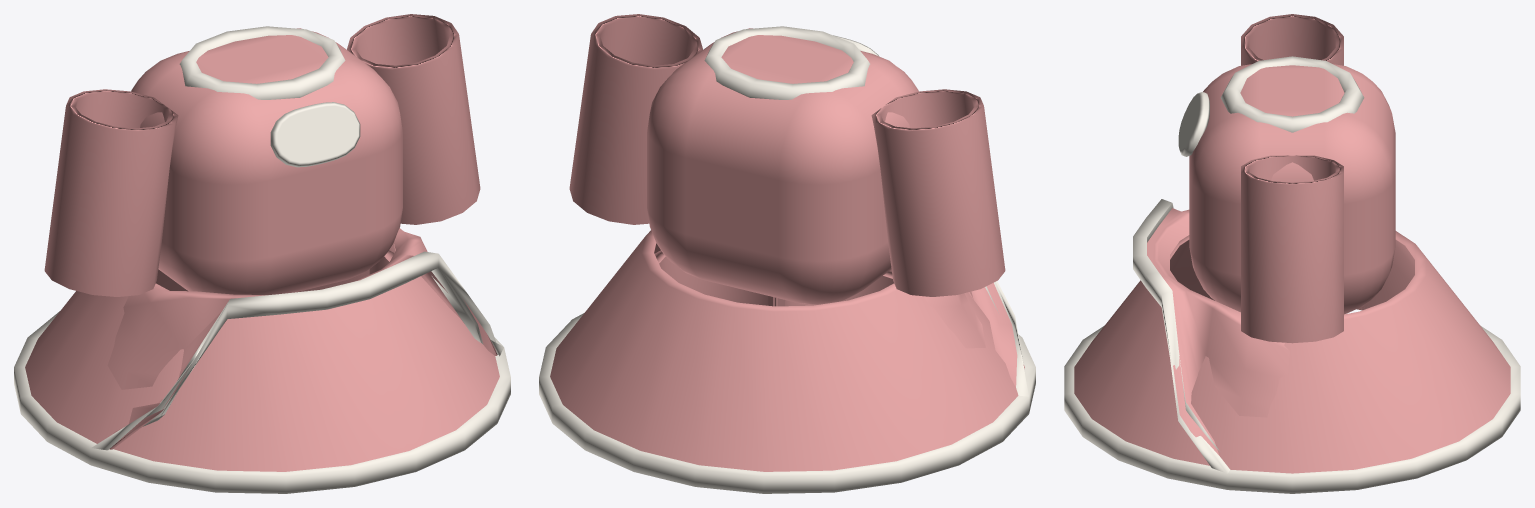
The model's file is bolero_coat.glb.
The picture shows the model from 3 angles, left to right: view 1: azimuth 30°, elevation 25°; view 2: azimuth 150°, elevation 25°; view 3: azimuth 270°, elevation 25°; orthographic projection. The views are drawn at different scales.
Parts seen in each view (by area): view 1: bolero_coat_Body, bolero_coat_Body_sit, bolero_coat_ArmL, bolero_coat_ArmR; view 2: bolero_coat_Body, bolero_coat_ArmL, bolero_coat_ArmR, bolero_coat_Body_sit, bolero_coat_LegR_sit, bolero_coat_LegL_sit; view 3: bolero_coat_Body, bolero_coat_ArmR, bolero_coat_Body_sit, bolero_coat_ArmL.
Boxes of the visible parts, x1,y1,x2,y2 form: bolero_coat_Body: (14,26,510,493); bolero_coat_Body_sit: (91,58,503,450); bolero_coat_ArmL: (44,89,178,296); bolero_coat_ArmR: (347,14,480,224); bolero_coat_Body: (539,26,1035,493); bolero_coat_ArmL: (871,89,1005,296); bolero_coat_ArmR: (569,14,702,224); bolero_coat_Body_sit: (647,57,1028,396); bolero_coat_LegR_sit: (654,250,777,306); bolero_coat_LegL_sit: (773,271,893,306); bolero_coat_Body: (1064,56,1520,493); bolero_coat_ArmR: (1241,155,1343,343); bolero_coat_Body_sit: (1133,115,1414,473); bolero_coat_ArmL: (1241,14,1343,65).
Size of the model in its own units: 0.648 by 0.5289 by 0.6414.
